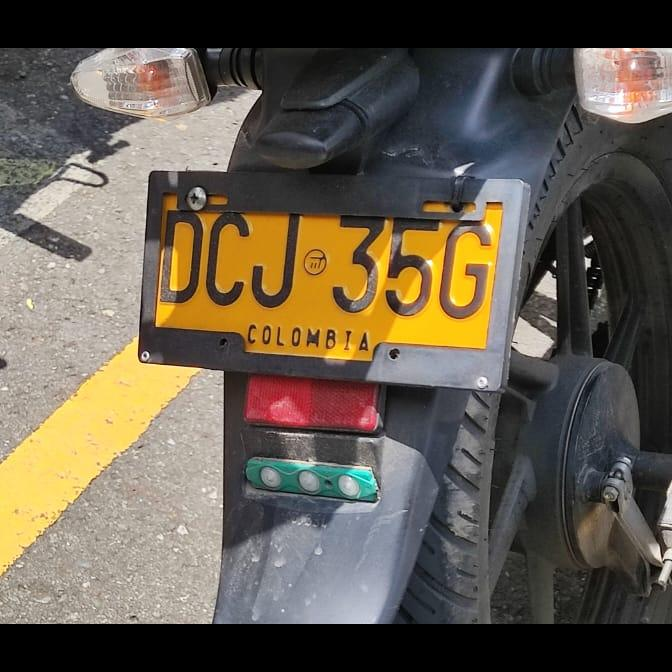plates: (144, 177, 517, 386)
